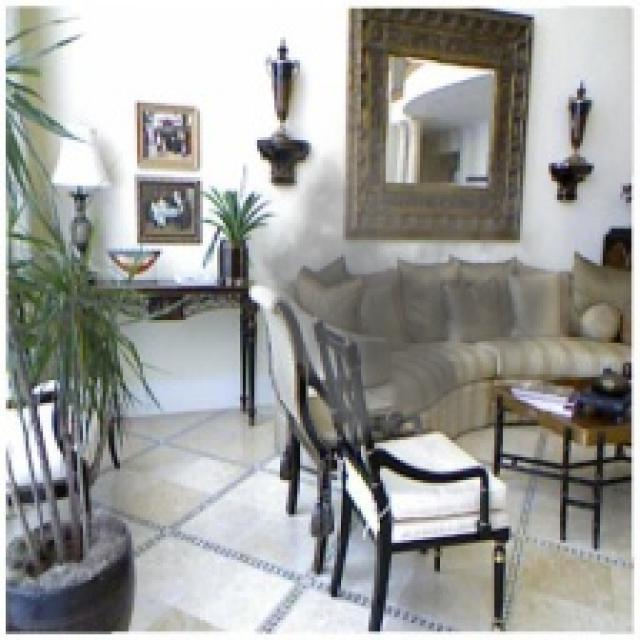Smoke: (234, 86, 586, 480)
